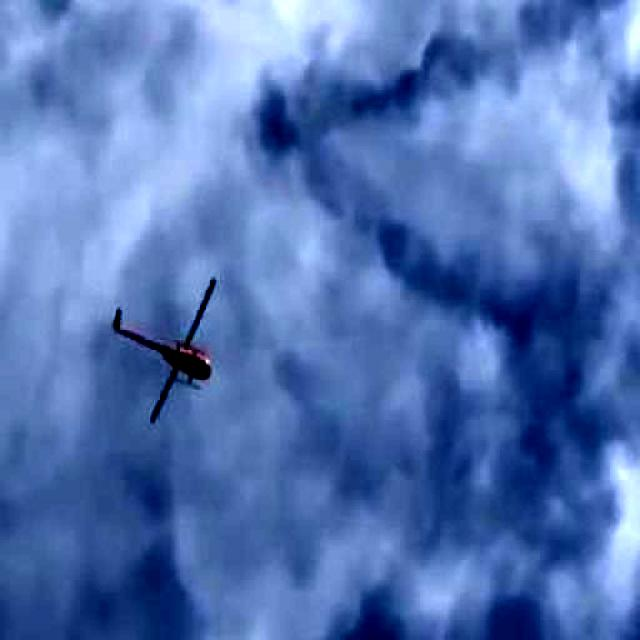drone: (68, 249, 256, 445)
